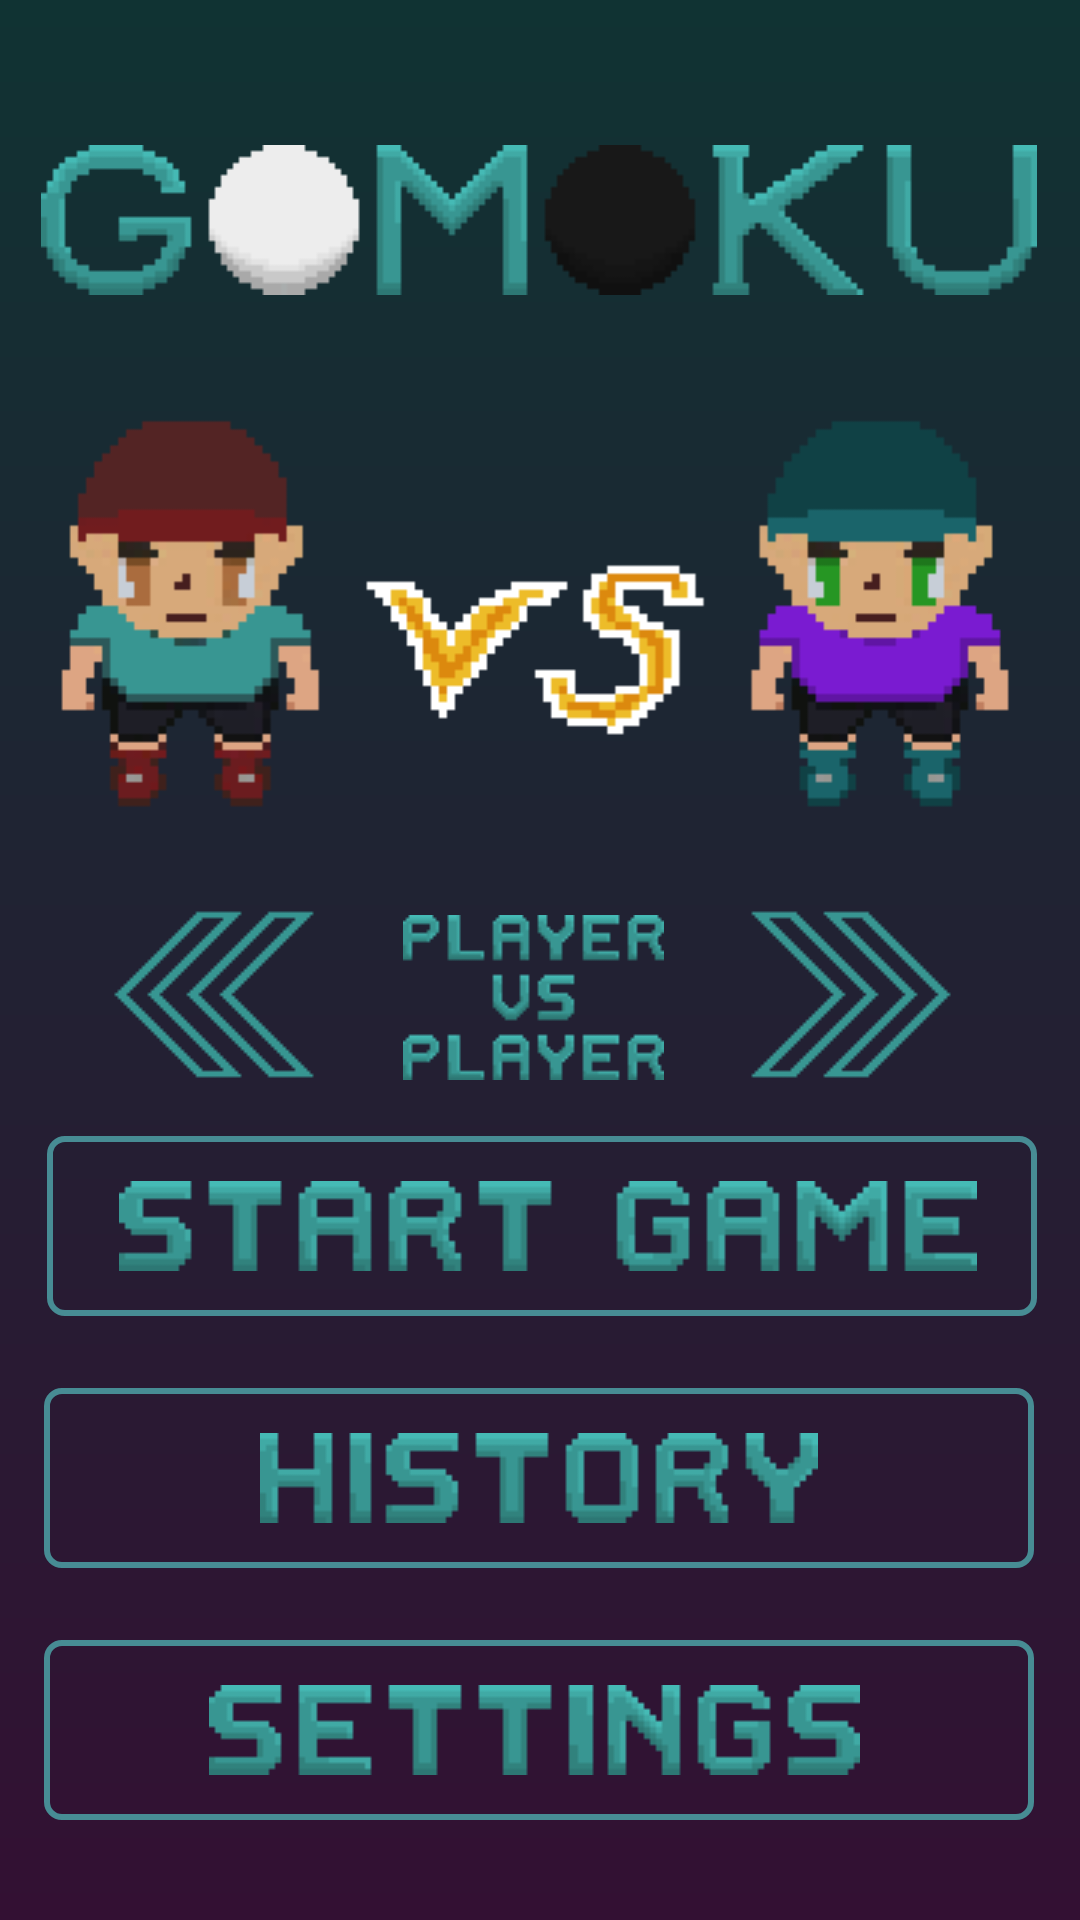

Named icons in this screenshot (1080w x 1920h) and their bounding boxes, (x1, y1, x2, y2):
left arrow: (114, 911, 314, 1078)
right arrow: (751, 911, 951, 1078)
